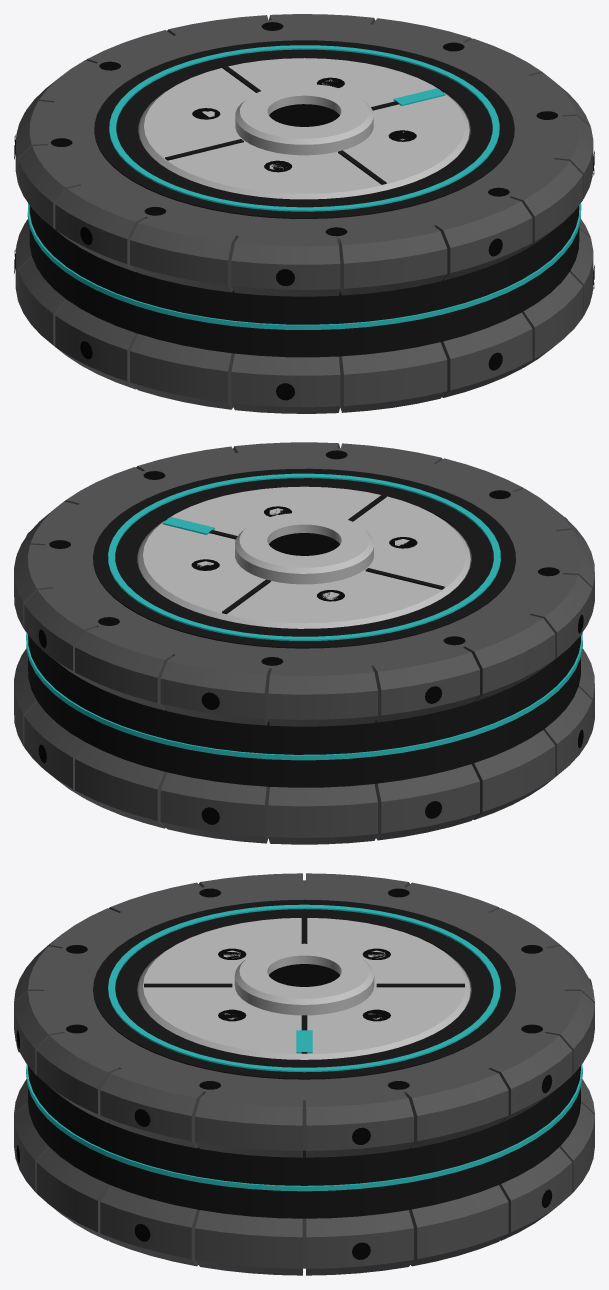
File: bearing.glb
3 renders of one model, top to bottom at view 1: azimuth 30°, elevation 25°; view 2: azimuth 150°, elevation 25°; view 3: azimuth 270°, elevation 25°, orthographic.
Visible parts, largest first — view 1: rotor, Stator; view 2: rotor, Stator; view 3: rotor, Stator.
Part boxes in pixels (box(x1,y1,x2,y2)): rotor: box(14, 14, 594, 296); Stator: box(14, 203, 594, 413); rotor: box(14, 442, 594, 726); Stator: box(14, 633, 594, 844); rotor: box(14, 873, 594, 1157); Stator: box(14, 1064, 594, 1275).
Bounding box in the file's own units: 0.25 × 0.089 × 0.25.
